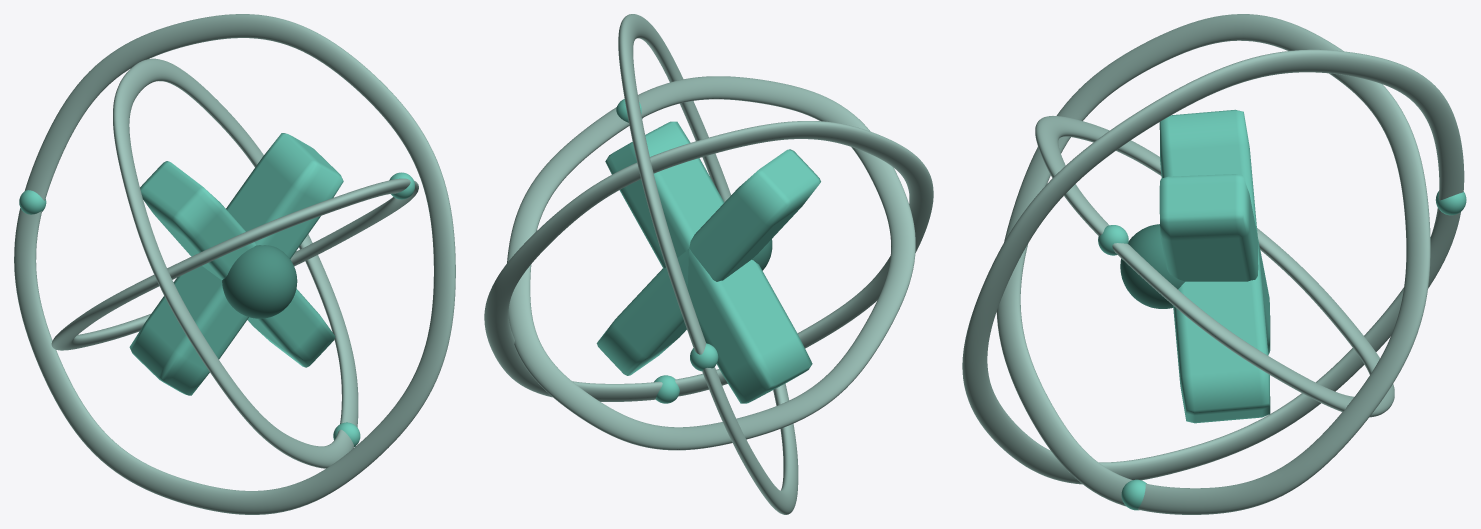
3 views of the same model, side by side, from view 1: azimuth 30°, elevation 25°; view 2: azimuth 150°, elevation 25°; view 3: azimuth 270°, elevation 25° (orthographic). The views are drawn at different scales.
Size of the model in its own units: 0.9524 by 1.13 by 1.06.
